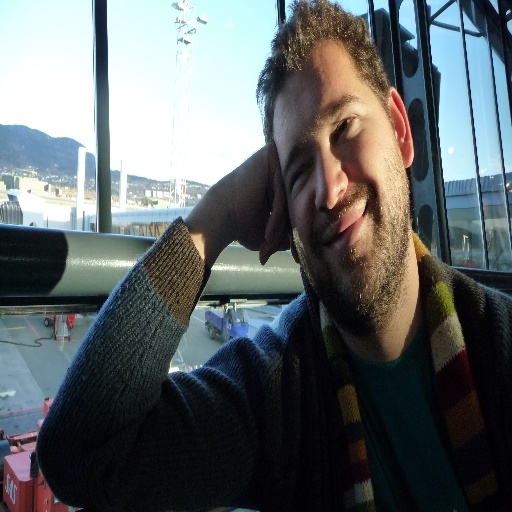hand: (185, 141, 283, 259)
